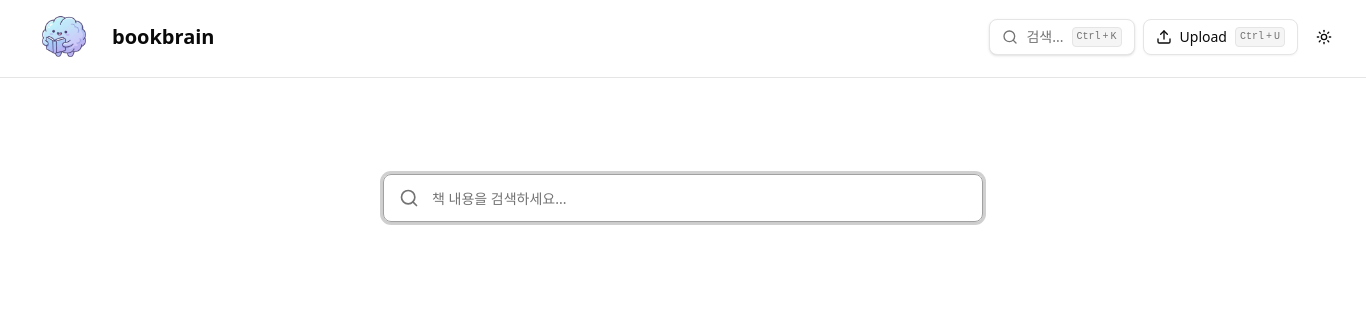
Test: App › shows error UI when search fails
Type "test query" into the field with placeholder "책 내용을 검색하세요..." at (683, 198), box x1=383 y1=174 x2=983 y2=222
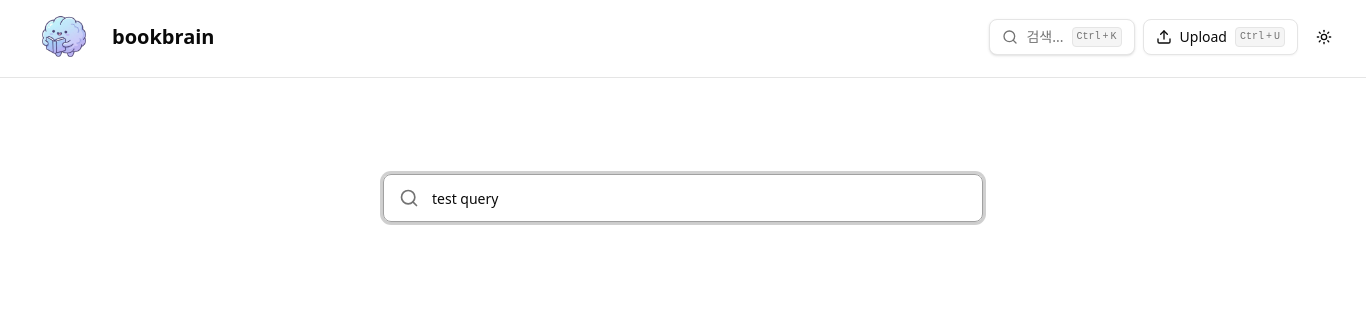
Press Enter
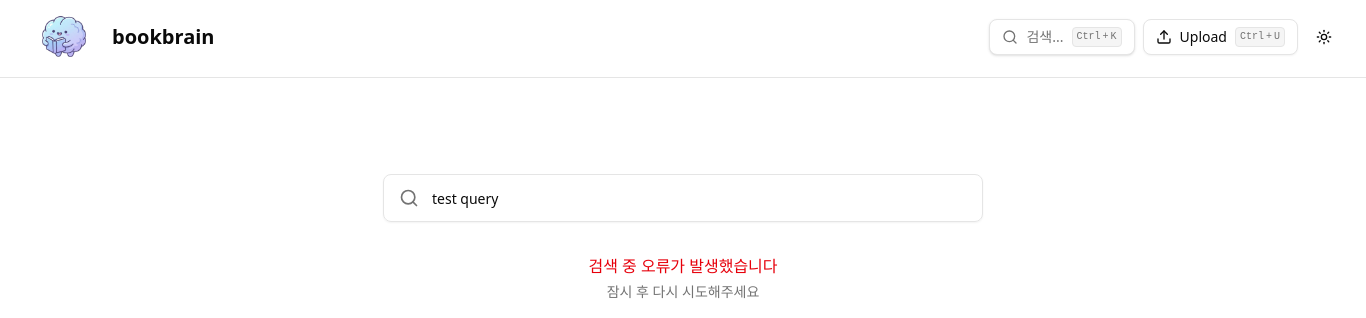
Result: the message "검색 중 오류가 발생했습니다 잠시 후 다시 시도해주세요" is shown at x1=588 y1=255 x2=778 y2=301
Result: the text "검색 중 오류가 발생했습니다" is shown at x1=588 y1=255 x2=778 y2=277
Result: the text "잠시 후 다시 시도해주세요" is shown at x1=607 y1=282 x2=759 y2=301
